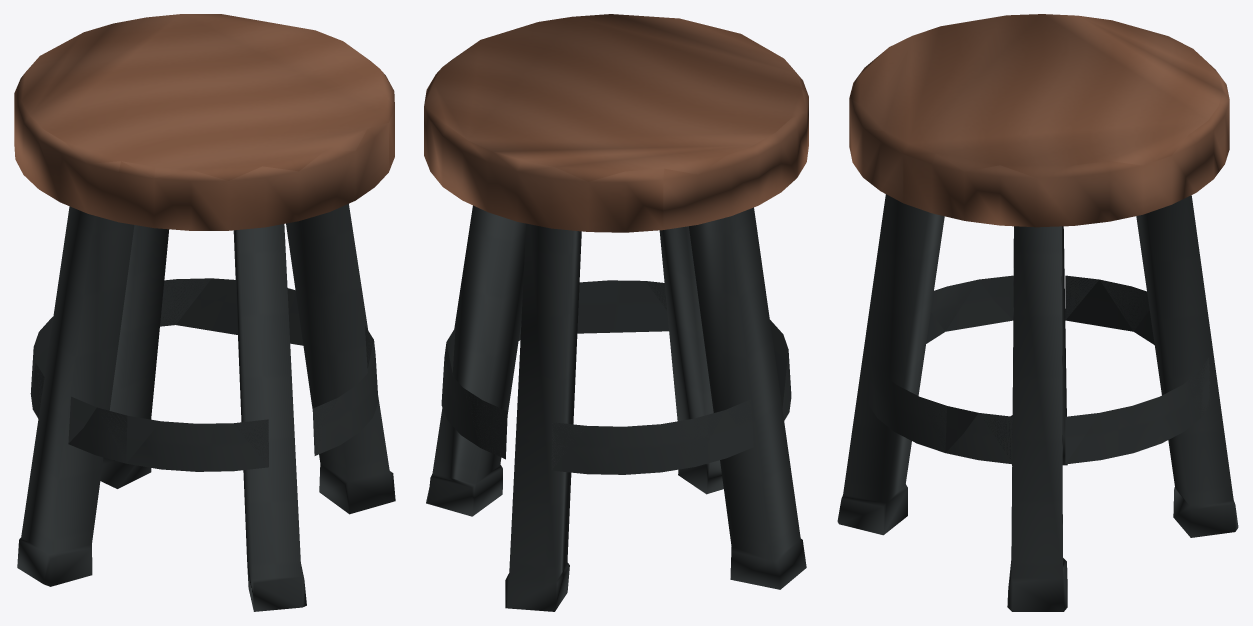
The model's file is P02_atlas_v1.glb.
3 views of the same model, side by side, from view 1: azimuth 30°, elevation 25°; view 2: azimuth 150°, elevation 25°; view 3: azimuth 270°, elevation 25° (orthographic). The views are drawn at different scales.
Parts seen in each view (by area): view 1: P02_Geometry; view 2: P02_Geometry; view 3: P02_Geometry.
Part boxes in pixels (x1,y1,x2,y2): P02_Geometry: [14, 14, 395, 611]; P02_Geometry: [424, 14, 808, 611]; P02_Geometry: [837, 14, 1238, 611].
Size of the model in its own units: 2.5 by 3 by 2.5.
Materials: 1 (1 with a texture image).
